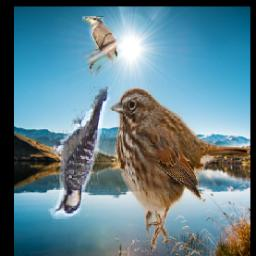Cuckoo: (82, 17, 117, 78)
Sparrow: (109, 87, 250, 253)
Woodpecker: (49, 83, 113, 223)
